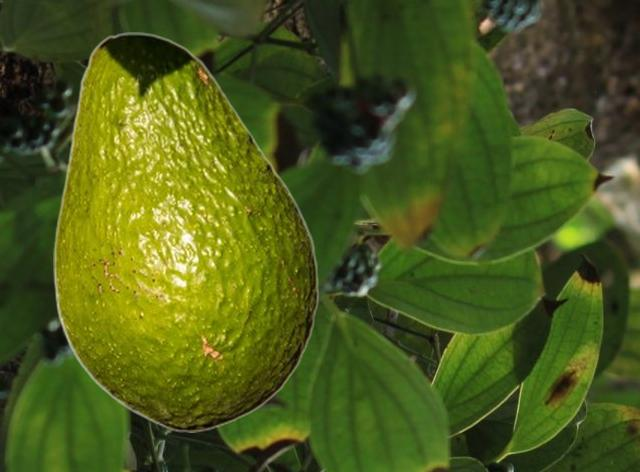avocado: (53, 32, 318, 431)
